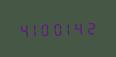four: (17, 21, 27, 38), (72, 19, 82, 36)
one: (61, 19, 71, 36), (28, 21, 38, 37)
two: (83, 19, 93, 35)
zero: (39, 20, 49, 37), (50, 20, 60, 36)
